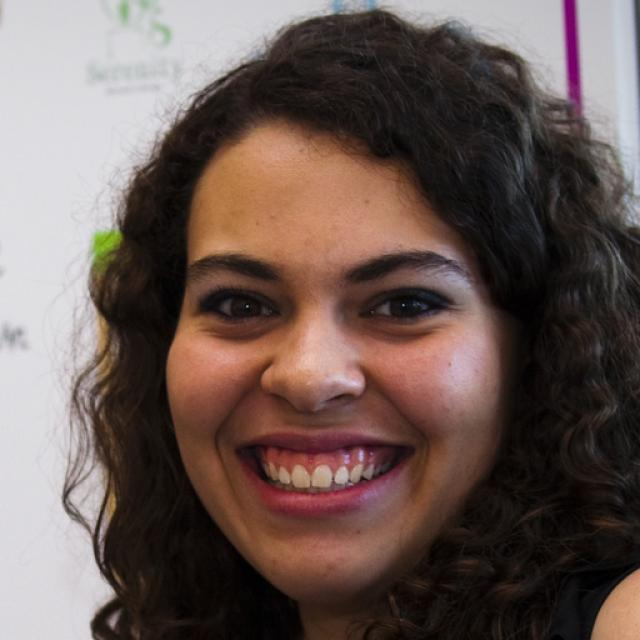Dark Circle: (348, 317, 444, 345), (203, 315, 281, 339)
